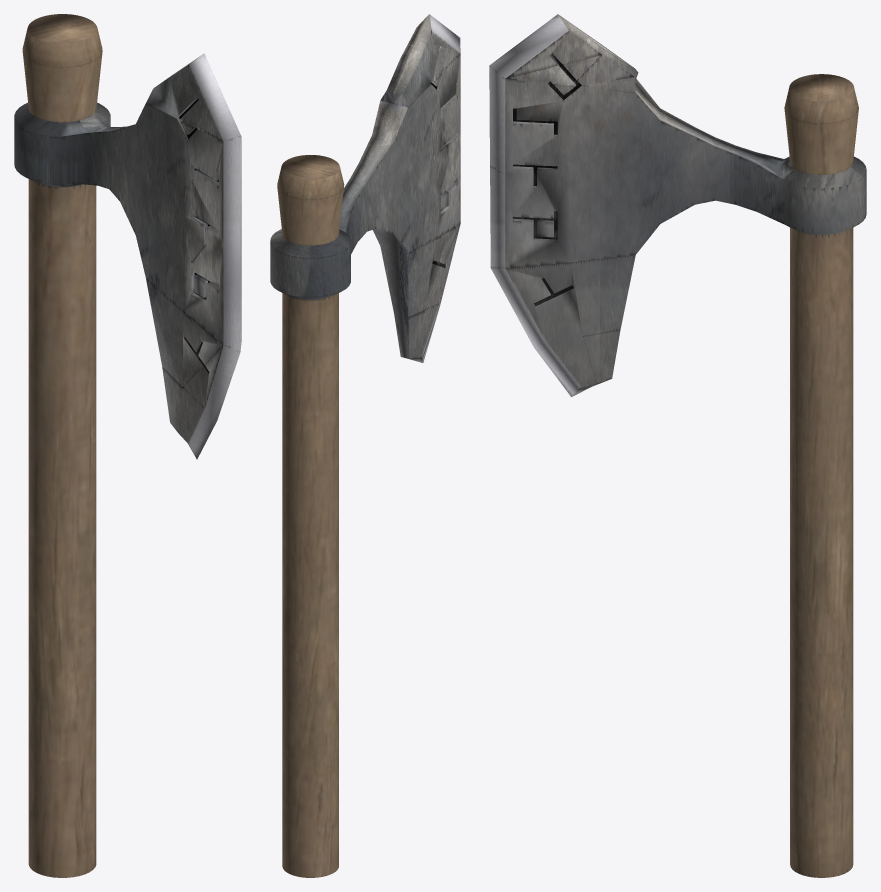
File: axe.fbx
The picture shows the model from 3 angles, left to right: view 1: azimuth 30°, elevation 25°; view 2: azimuth 150°, elevation 25°; view 3: azimuth 270°, elevation 25°; orthographic projection. The views are drawn at different scales.
Visible parts, largest first — view 1: Cylinder; view 2: Cylinder; view 3: Cylinder.
Boxes of the visible parts, x1=… form: Cylinder: x1=14, y1=14, x2=241, y2=877; Cylinder: x1=270, y1=14, x2=460, y2=877; Cylinder: x1=489, y1=14, x2=866, y2=877.
Size of the model in its own units: 59.56 by 622 by 250.
